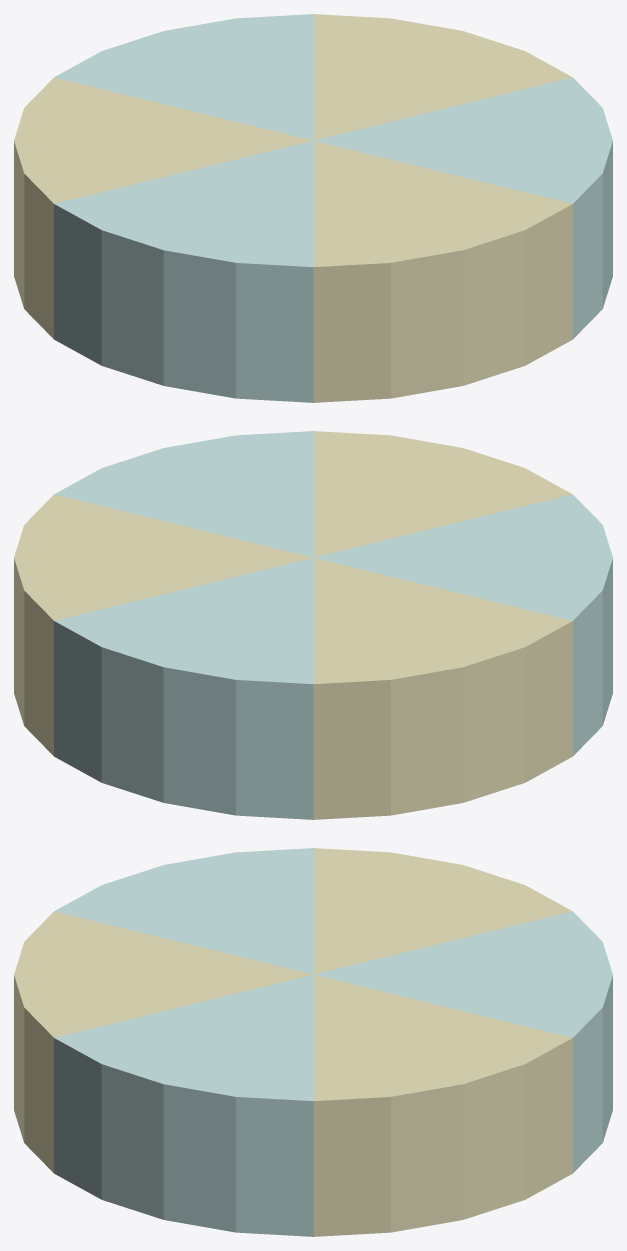
File: ColoredCylinder.fbx
3 renders of one model, top to bottom at view 1: azimuth 30°, elevation 25°; view 2: azimuth 150°, elevation 25°; view 3: azimuth 270°, elevation 25°, orthographic.
Parts seen in each view (by area): view 1: Circle; view 2: Circle; view 3: Circle.
Boxes of the visible parts, box(x1,y1,x2,y2) form: Circle: box(14, 14, 612, 402); Circle: box(14, 431, 612, 819); Circle: box(14, 848, 612, 1236).
Size of the model in its own units: 200 by 50 by 200.
